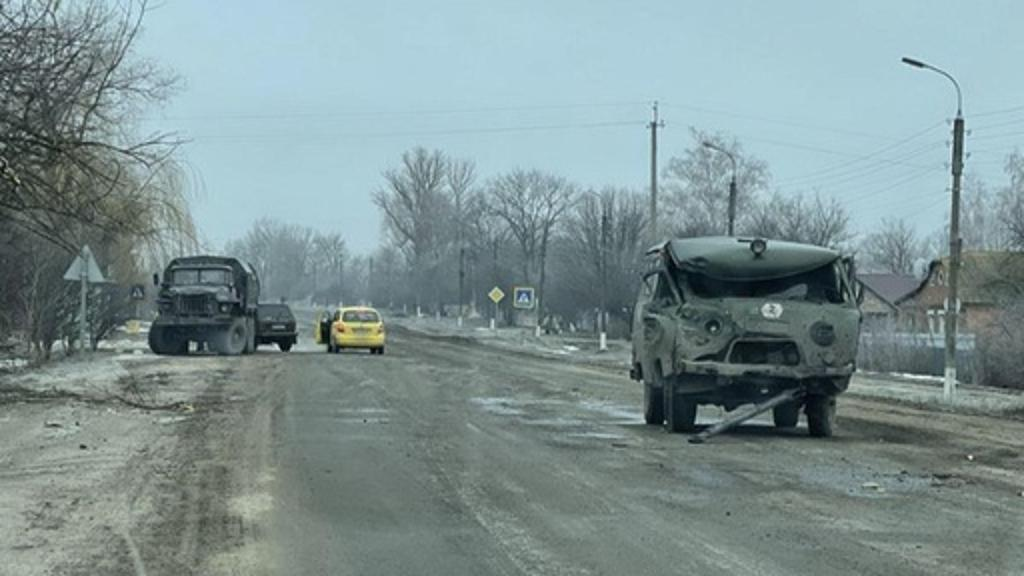CAR: (630, 230, 868, 450), (314, 304, 386, 356), (236, 298, 300, 354)
TRUCK: (146, 246, 258, 358)
